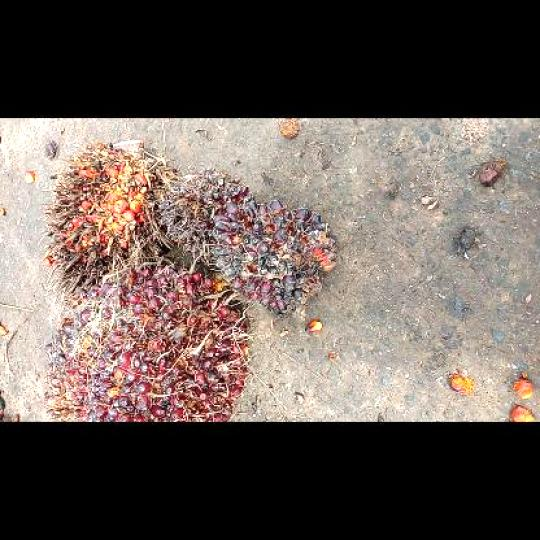masak: (43, 262, 253, 421)
terlalu masak: (37, 135, 176, 304)
